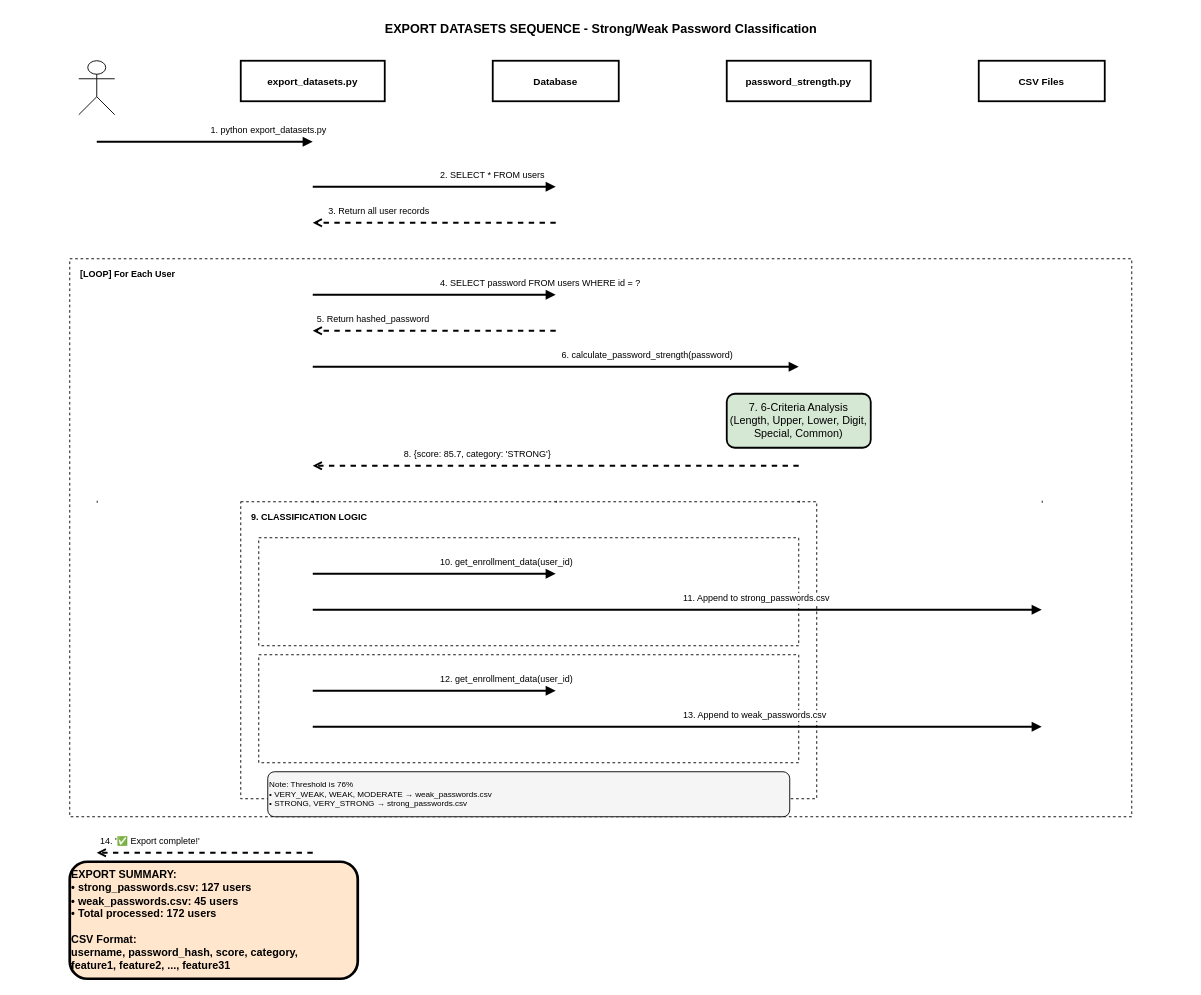
Some shapes in this 1201 by 995 pixel diagram are drawn without their labels. Here are the shapes that lost their labels. From the top down, the centre of each, then its label:
At point (96, 87): "Admin".
At point (528, 591): "[IF] Score ≥ 76% → STRONG".
At point (528, 708): "[ELSE IF] Score < 76% → WEAK".
